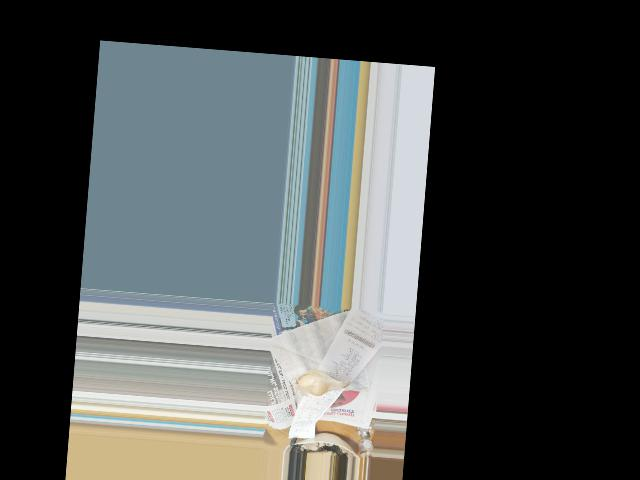onion: (296, 369, 340, 394)
